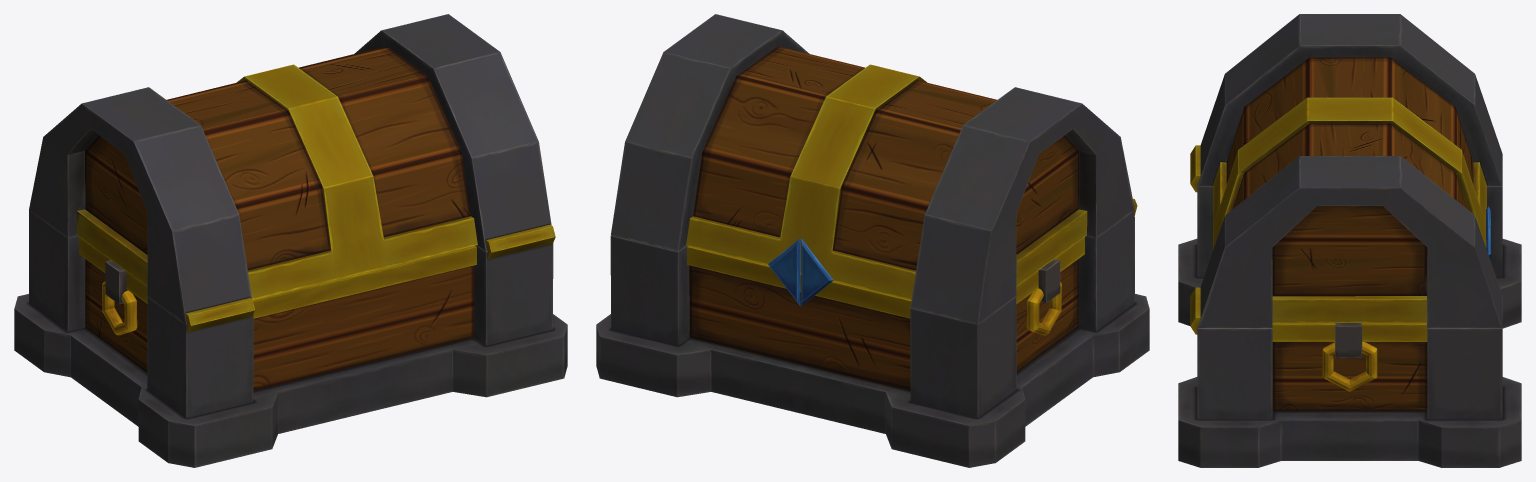
File: gold_chest.glb
3 views of the same model, side by side, from view 1: azimuth 30°, elevation 25°; view 2: azimuth 150°, elevation 25°; view 3: azimuth 270°, elevation 25° (orthographic). The views are drawn at different scales.
Visible parts, largest first — view 1: Gold_Chest_Top, Gold_Chest_Bottom; view 2: Gold_Chest_Top, Gold_Chest_Bottom; view 3: Gold_Chest_Top, Gold_Chest_Bottom.
Part boxes in pixels (x1,y1,x2,y2): Gold_Chest_Top: (29, 14, 555, 332); Gold_Chest_Bottom: (14, 210, 567, 467); Gold_Chest_Top: (611, 14, 1137, 324); Gold_Chest_Bottom: (596, 210, 1149, 467); Gold_Chest_Top: (1190, 14, 1502, 334); Gold_Chest_Bottom: (1178, 185, 1521, 467).
Bounding box in the file's own units: 0.4375 × 0.2942 × 0.3359.
Materials: 1 (1 with a texture image).
